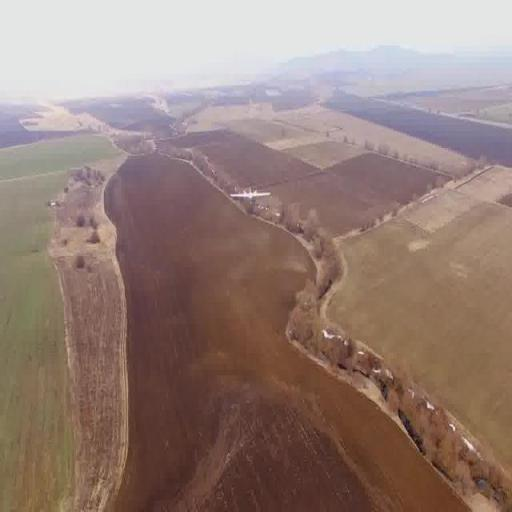uav: (228, 182, 272, 212)
